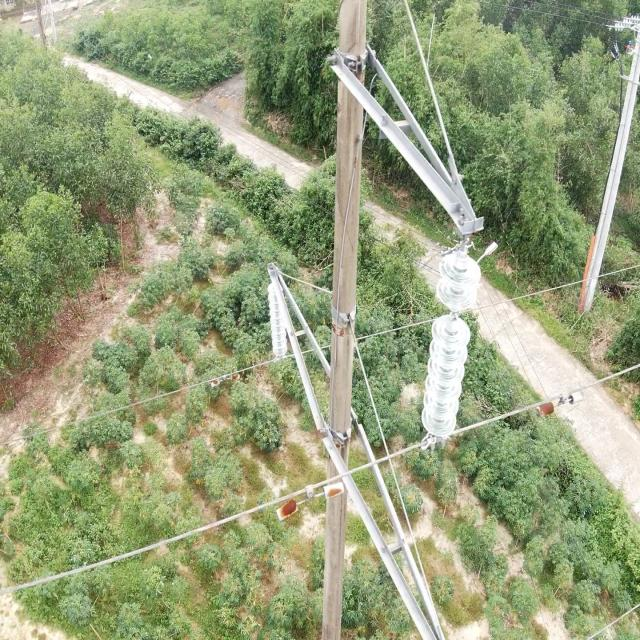正常电缆: (0, 351, 640, 606), (0, 253, 640, 455)
正常绝缘子: (411, 234, 483, 452), (262, 274, 290, 374)
绝缘子破损: (445, 312, 462, 322)
